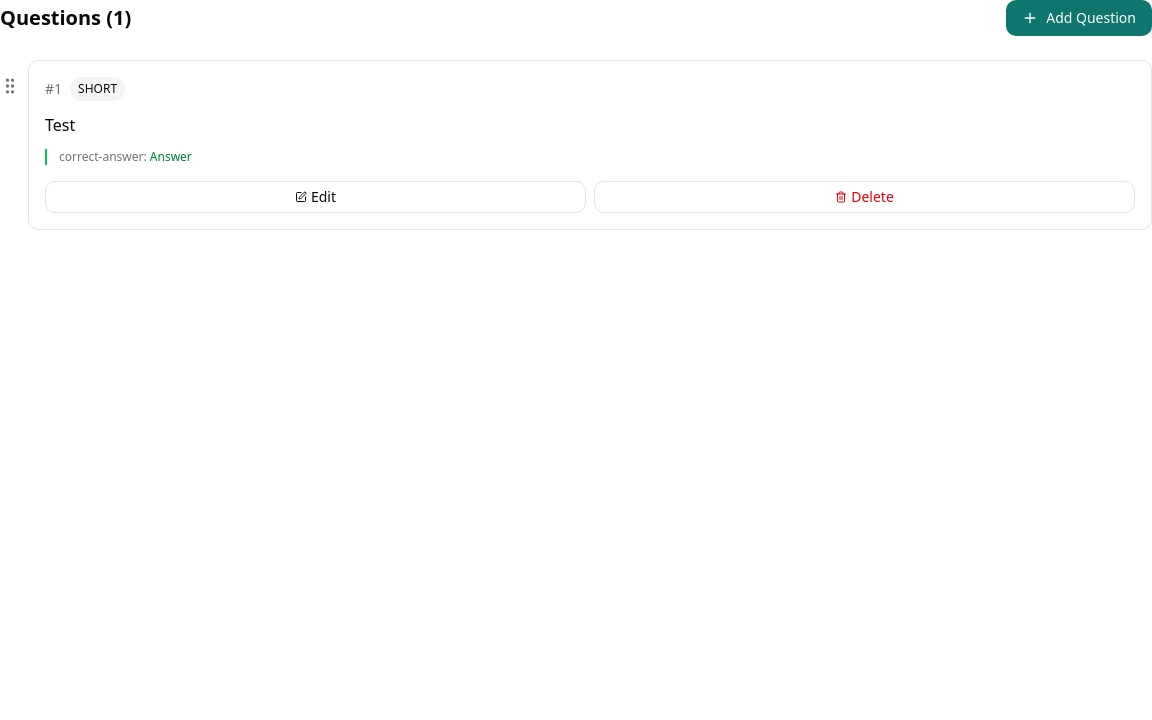
QuestionList › opens delete confirmation when delete button clicked
Click the button "Delete" at (864, 197), box [594,181,1135,213]
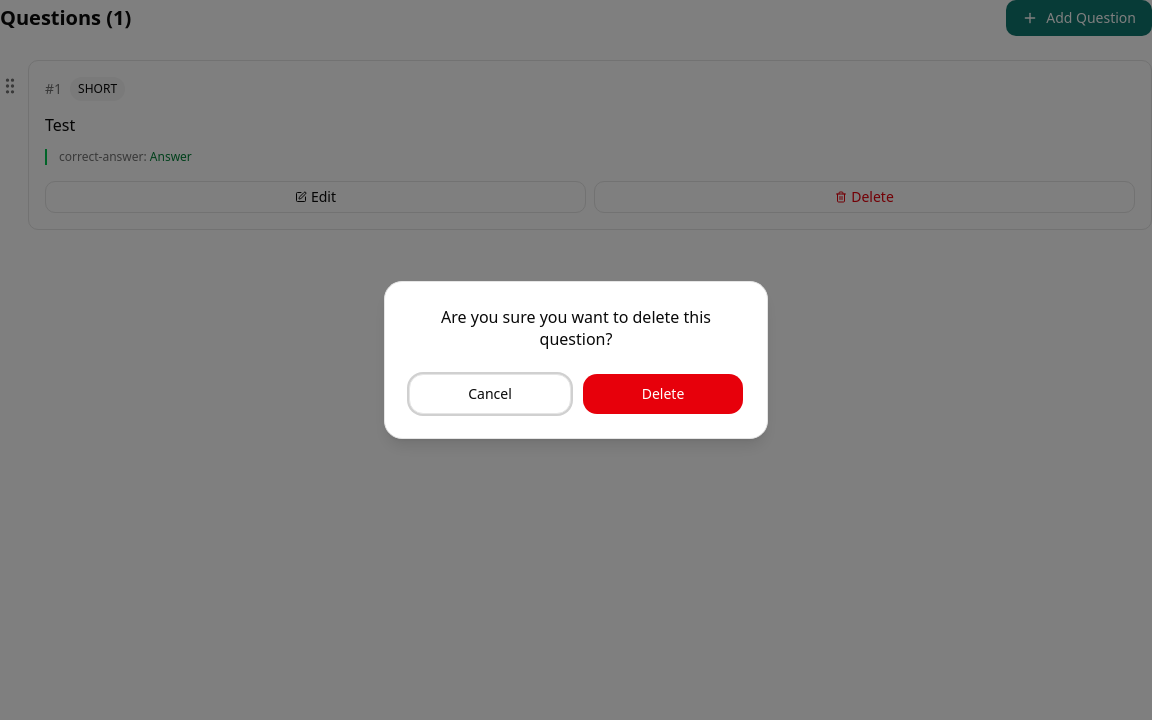
Expected: the text "Are you sure you want to delete this question?" is shown, [441,306,711,350]
